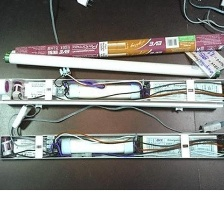book: (7, 29, 223, 59)
light_bulb: (0, 50, 224, 81)
